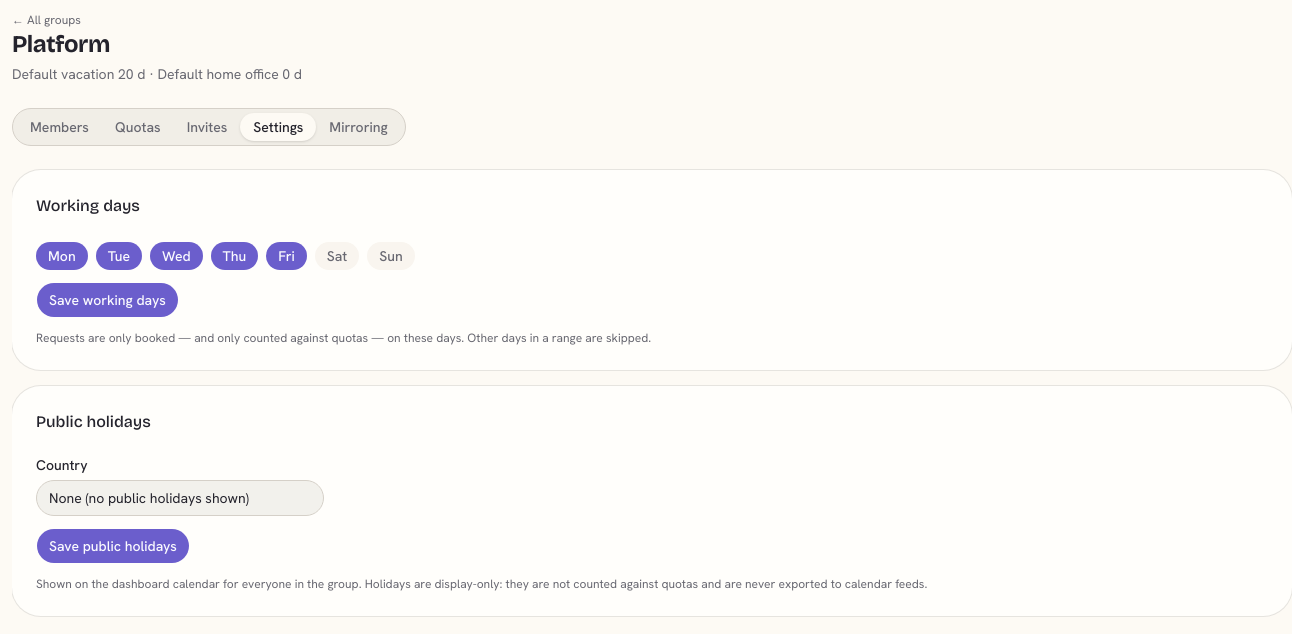
Test: GroupDetailPage working days › blocks saving when no working day is selected
Step 1. Click the button "Mon" → (62, 256), box [36,242,88,270]
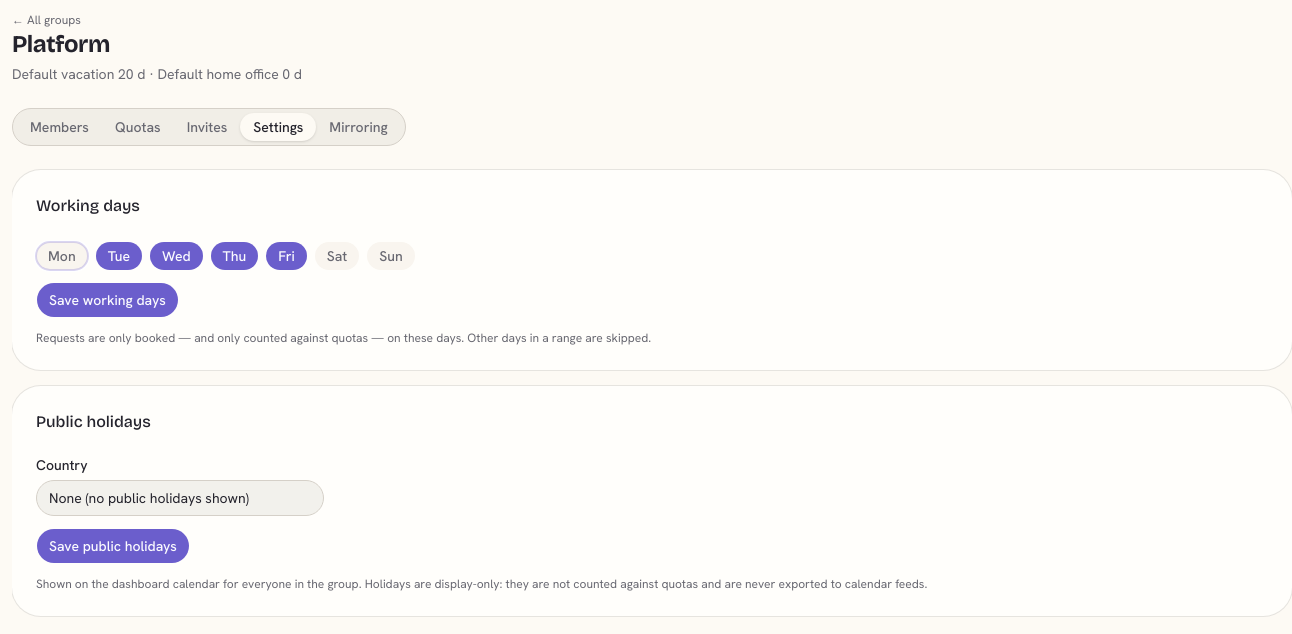
Step 2. Click the button "Tue" → (119, 256), box [96,242,142,270]
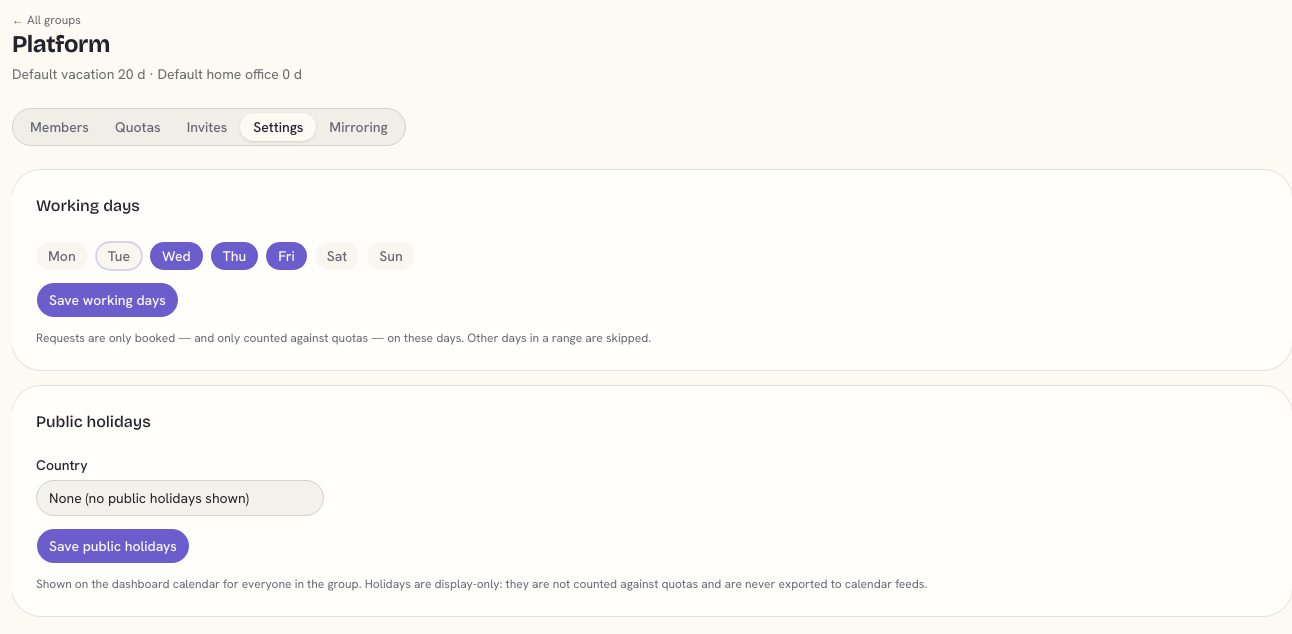
Step 3. Click the button "Wed" → (176, 256), box [150,242,203,270]
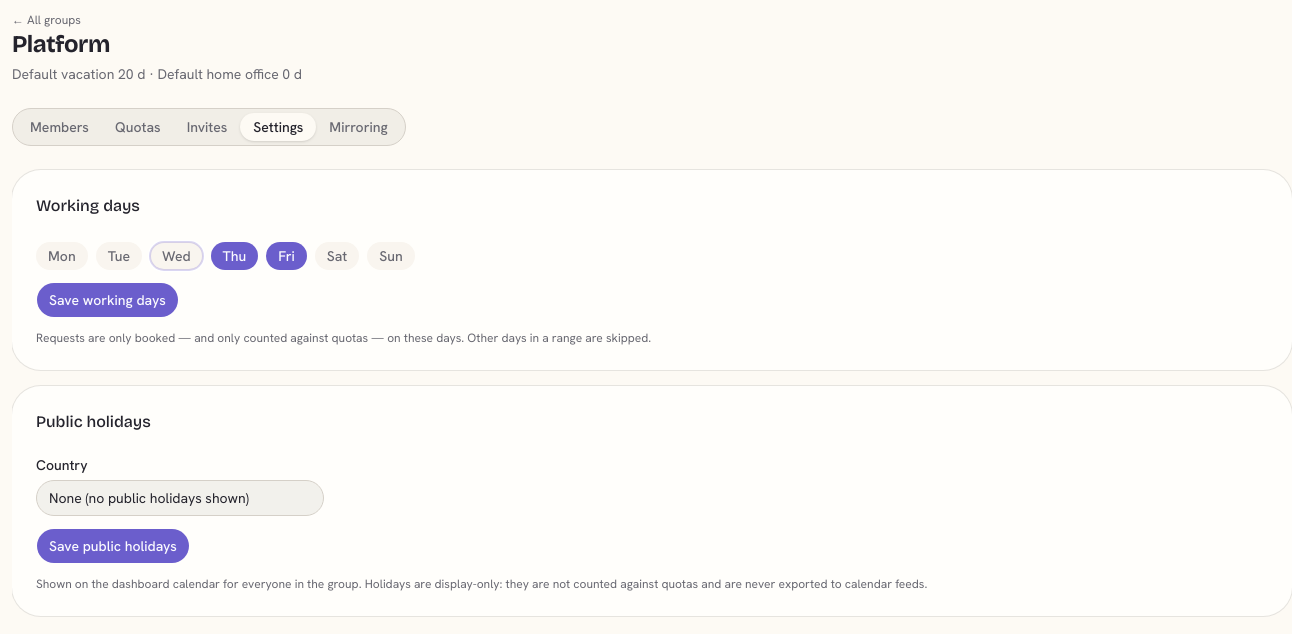
Step 4. Click the button "Thu" → (234, 256), box [211,242,258,270]
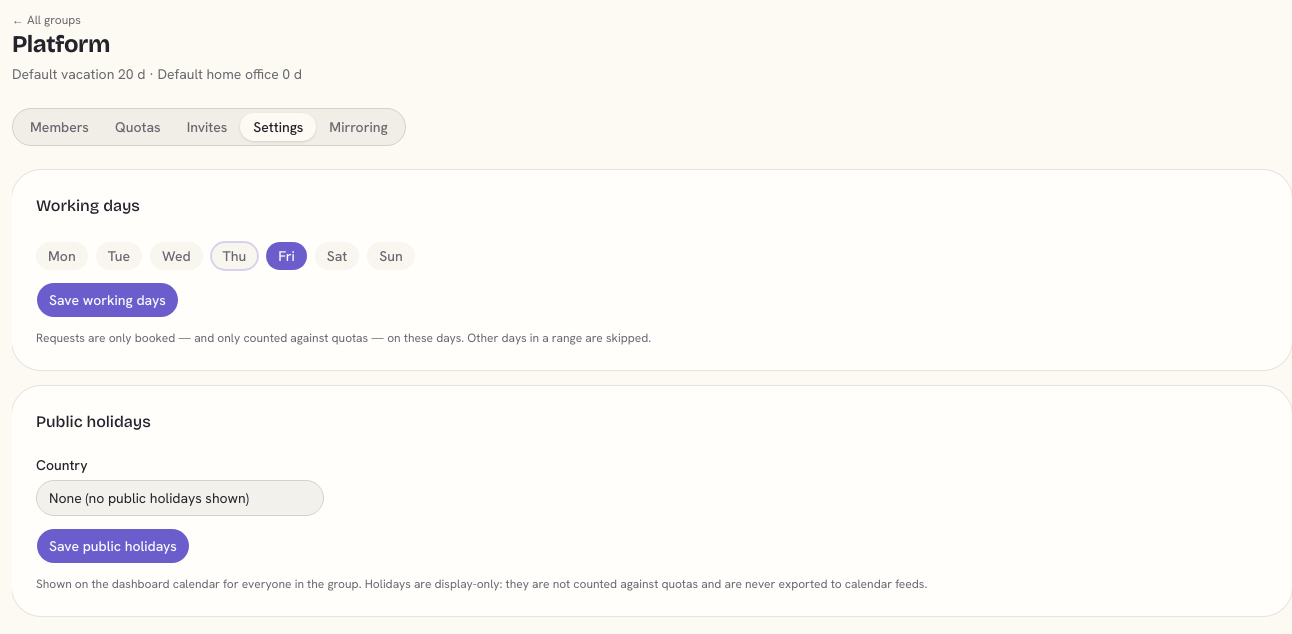
Step 5. Click the button "Fri" → (286, 256), box [266,242,307,270]
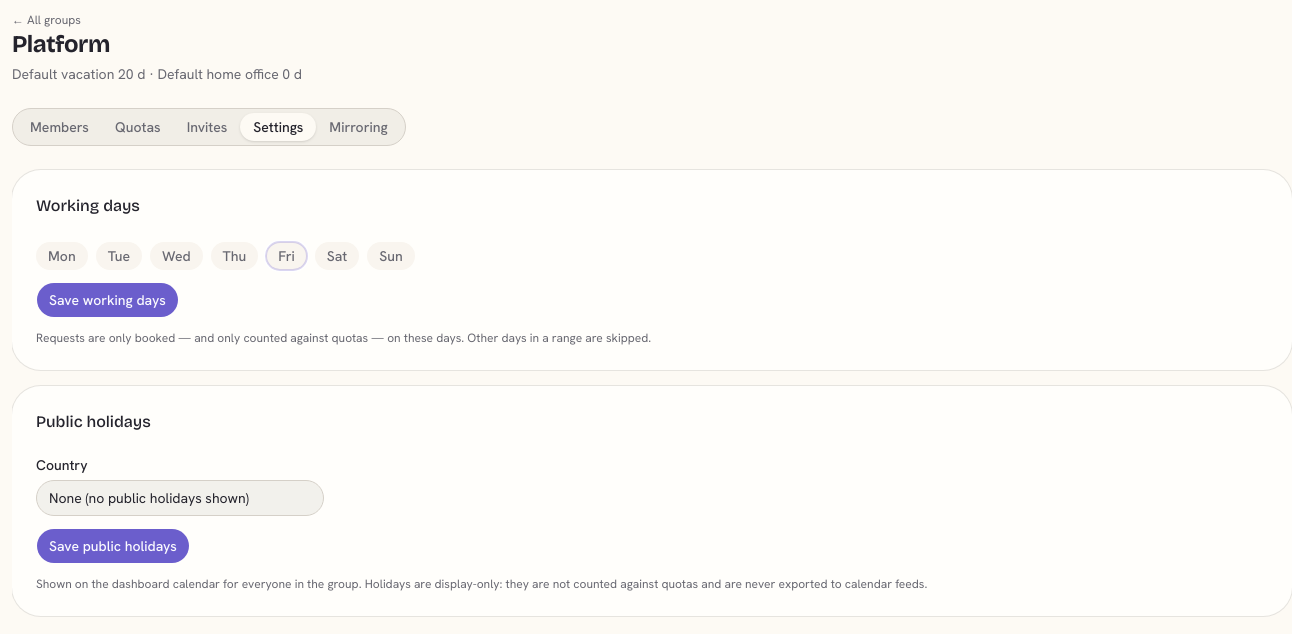
Step 6. Click the button "Save working days" → (107, 300), box [36,282,179,318]
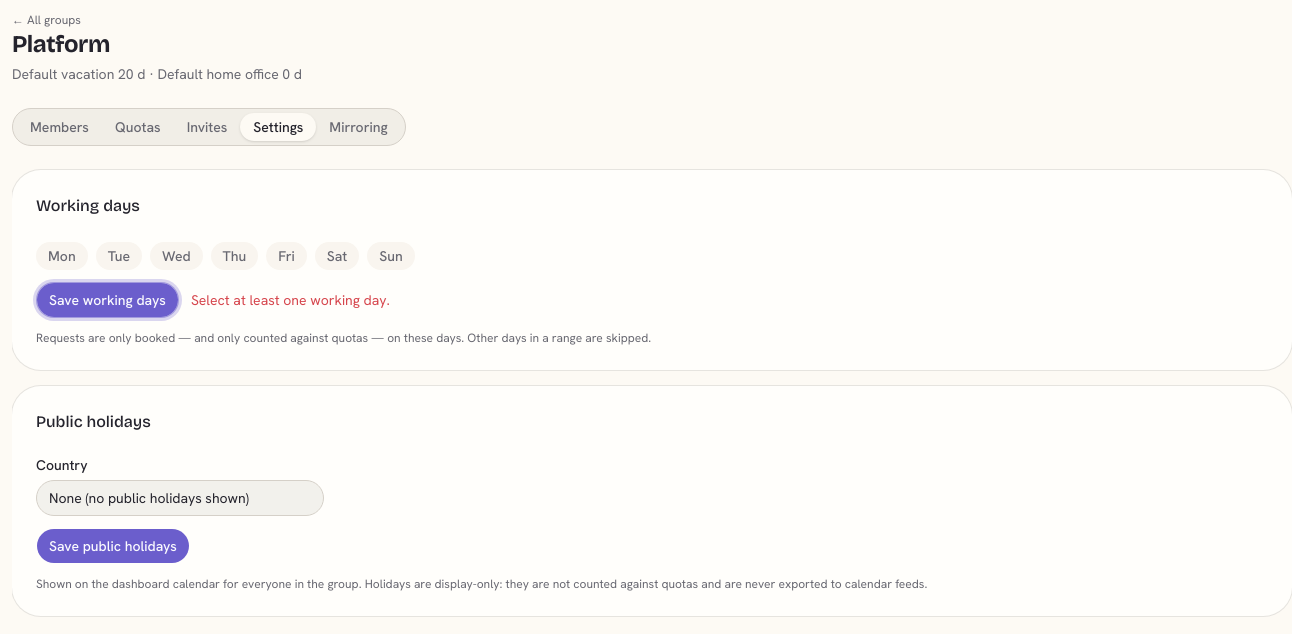
Expected: the text "Select at least one working day." is shown, [191,290,390,310]
